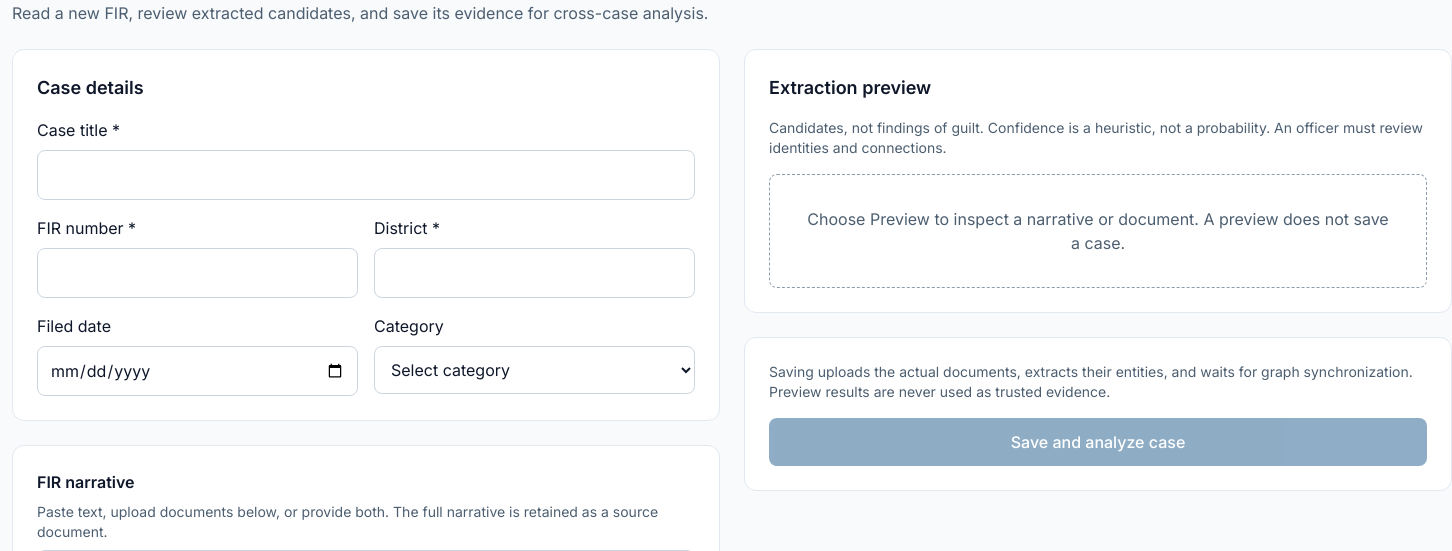
Test case: narrative preview displays confidence and source offsets without saving
This screenshot has width=1452, height=551.
In the field labelled "Case title *": x=366, y=175 [37,150,695,200], type "New FIR"
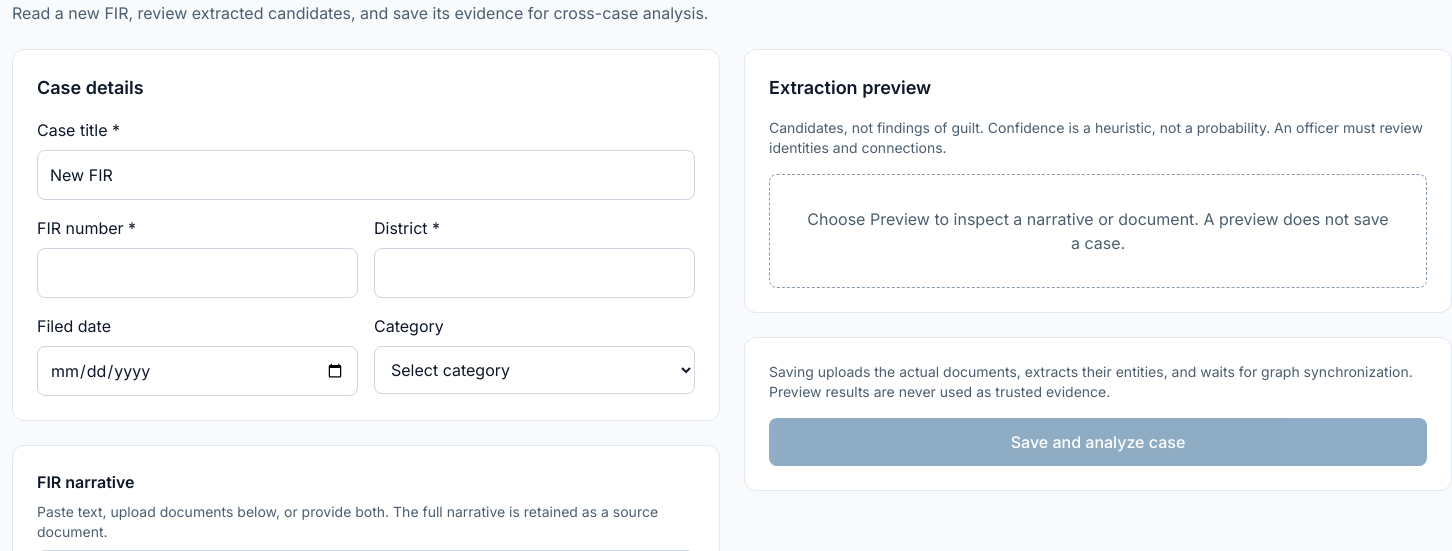
In the field labelled "FIR number *": x=198, y=273 [37,248,358,298], type "FIR-NEW-1"
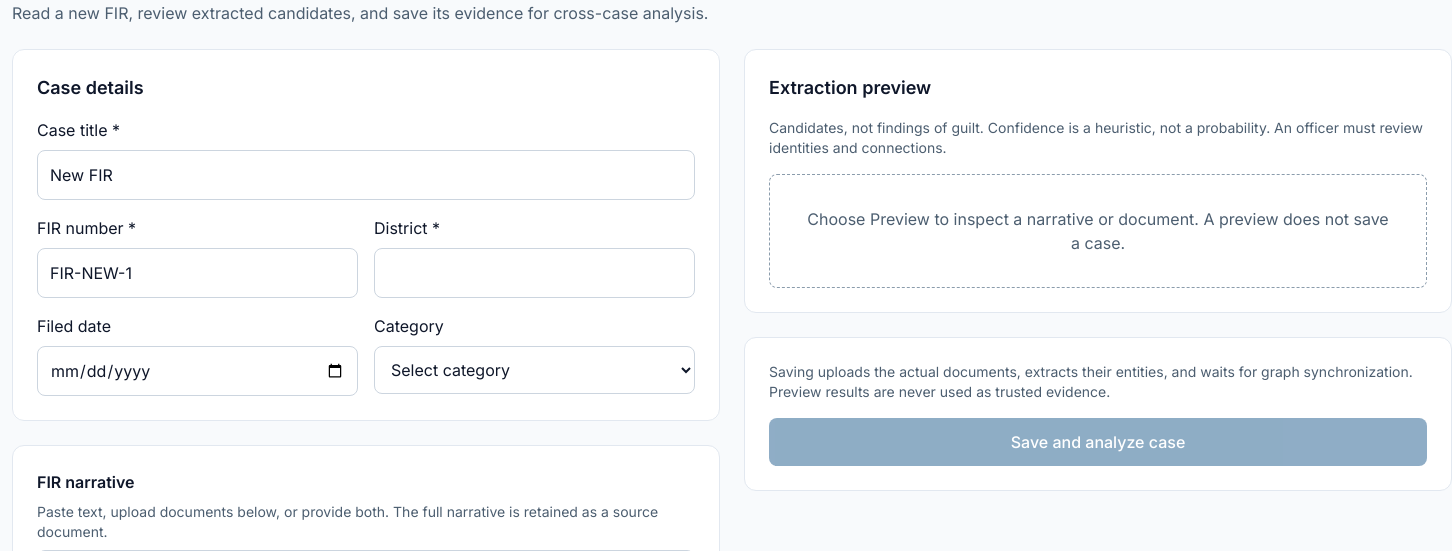
In the field labelled "District *": x=534, y=273 [374,248,695,298], type "Lucknow"
(page scrolled)
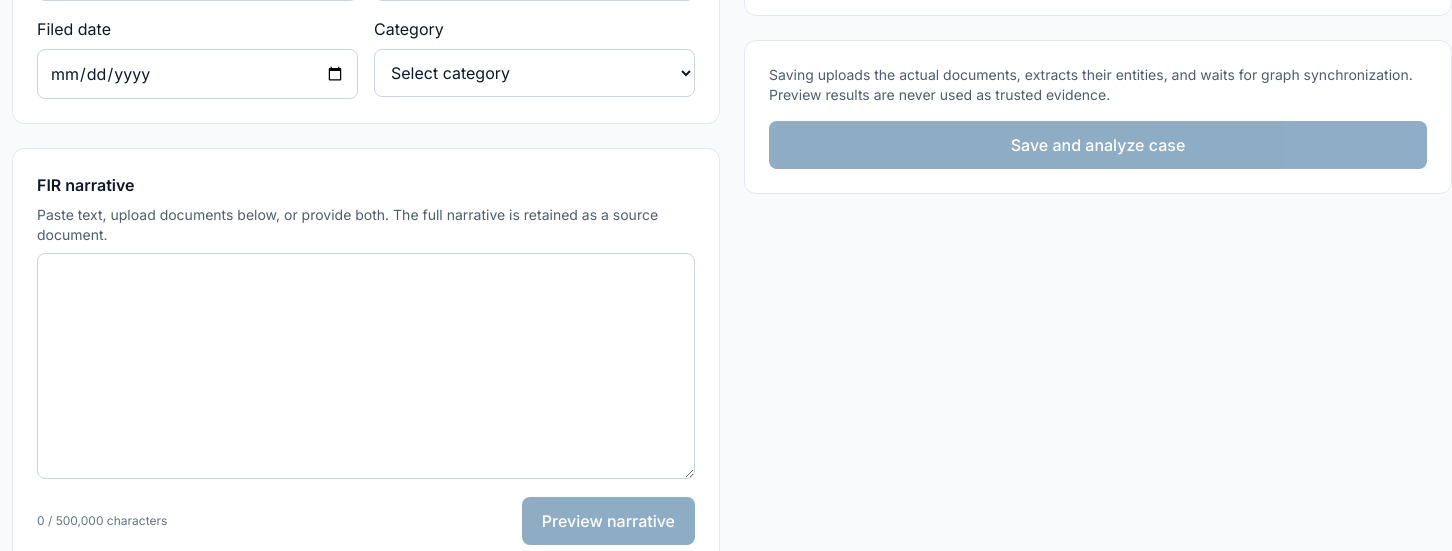
In the text box labelled "FIR narrative": x=366, y=366 [37,253,695,479], type "Phone: 9123456789"
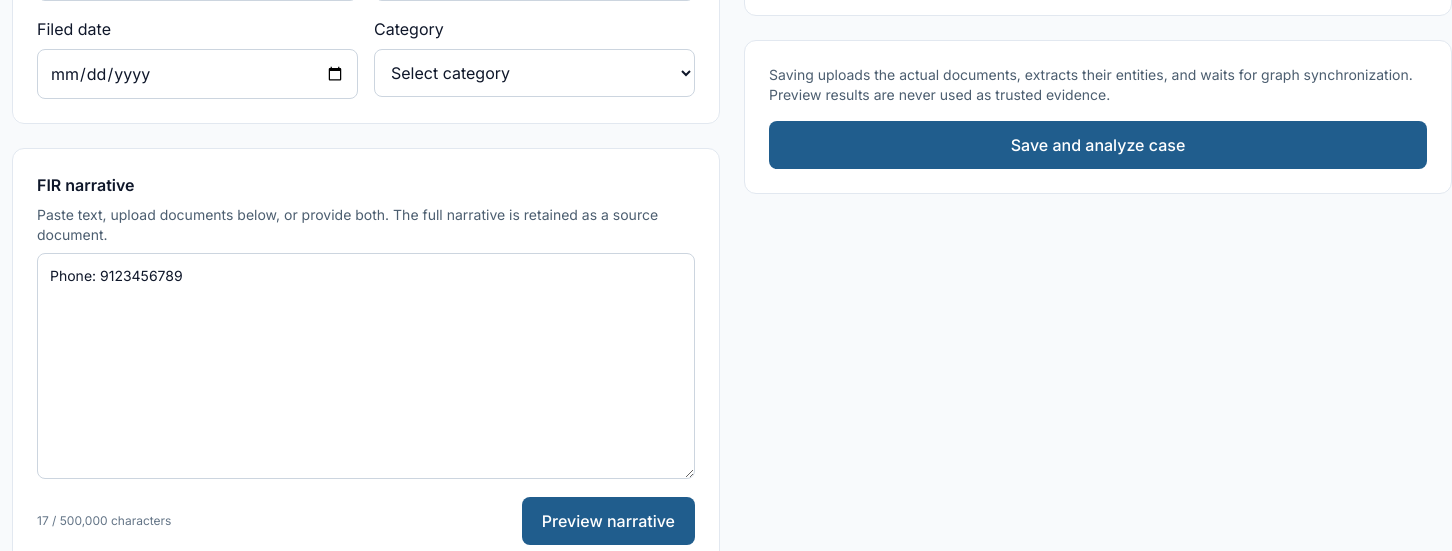
Click the button "Preview narrative": x=608, y=521 [522,497,695,545]
(page scrolled)
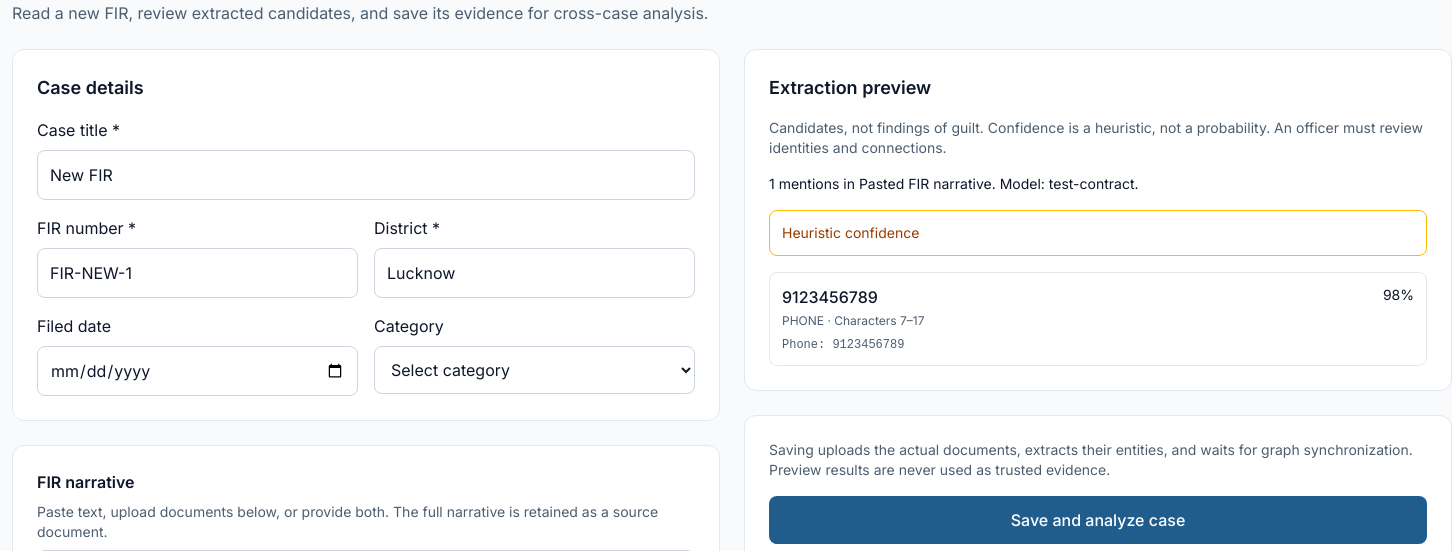
Now the text "98%" is shown, box [1383,285,1414,305]
Now the text "PHONE · Characters 7–17" is shown, box [782,313,924,328]
Now the list item "Heuristic confidence" is shown, box [782,224,919,241]
